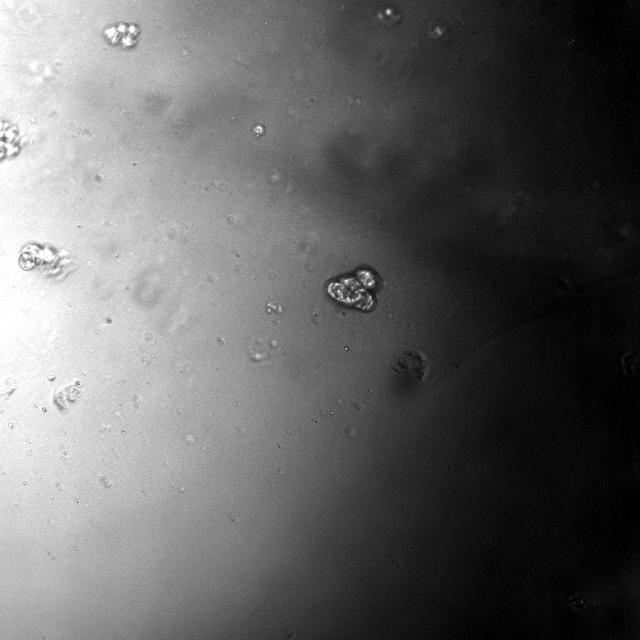organoid: (325, 265, 381, 312), (18, 241, 75, 279), (393, 351, 430, 381), (102, 21, 141, 48), (0, 119, 21, 161), (251, 122, 266, 137)
